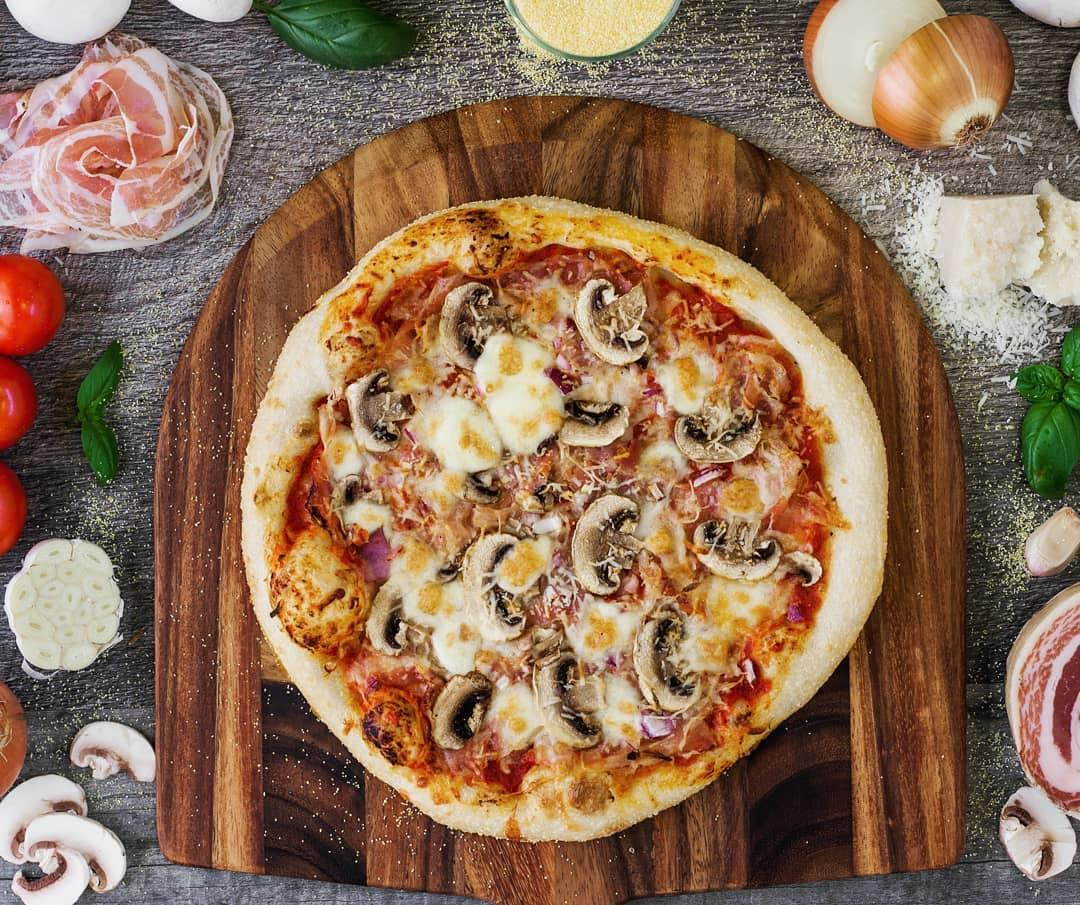Cheese: (410, 582, 488, 662), (652, 350, 735, 424), (486, 342, 551, 436), (424, 398, 495, 460)
Corn: (448, 414, 490, 451), (720, 476, 760, 513), (676, 356, 709, 392), (496, 348, 527, 376), (590, 616, 618, 647)
Mushroom: (566, 498, 643, 600), (640, 590, 703, 710), (458, 534, 539, 625), (536, 652, 602, 748), (434, 282, 506, 363), (317, 472, 383, 560), (342, 370, 405, 449), (576, 290, 655, 353), (680, 412, 768, 467), (430, 670, 491, 748), (698, 534, 786, 585), (362, 586, 408, 668), (564, 394, 632, 443), (464, 460, 509, 494)
Pizza: (244, 196, 883, 838)
